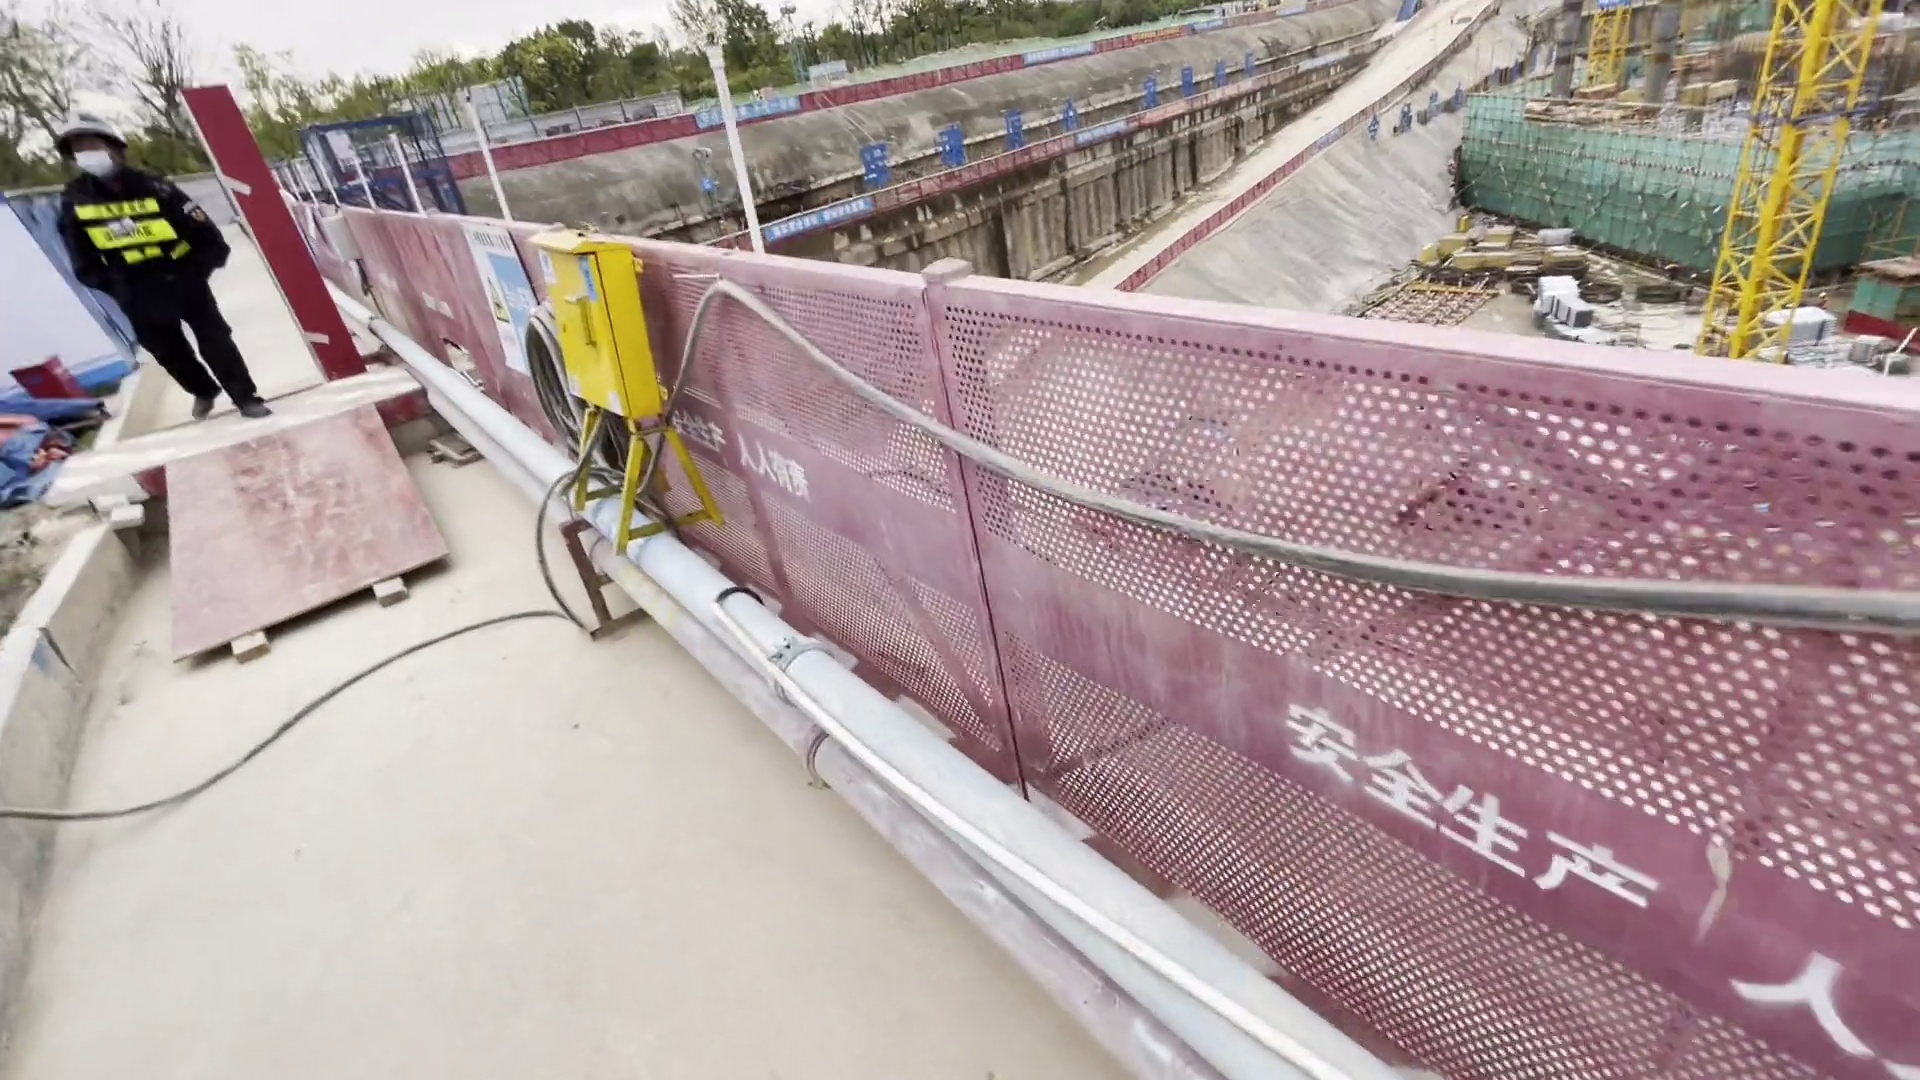board: (140, 400, 463, 673), (1436, 227, 1523, 266)
ebox: (504, 218, 706, 518)
fence: (938, 250, 1920, 1080), (295, 192, 1044, 812), (429, 119, 744, 185), (722, 187, 984, 257)
helmet: (51, 119, 143, 153), (1817, 287, 1828, 298)
person: (40, 110, 304, 426), (1813, 286, 1839, 312)
scaffold: (1531, 271, 1615, 345), (1766, 304, 1840, 365), (1538, 224, 1581, 253)
slogan: (454, 204, 560, 387), (738, 191, 891, 249), (679, 84, 815, 132), (1000, 27, 1107, 72)
vest: (53, 168, 208, 285), (1820, 301, 1831, 308)
